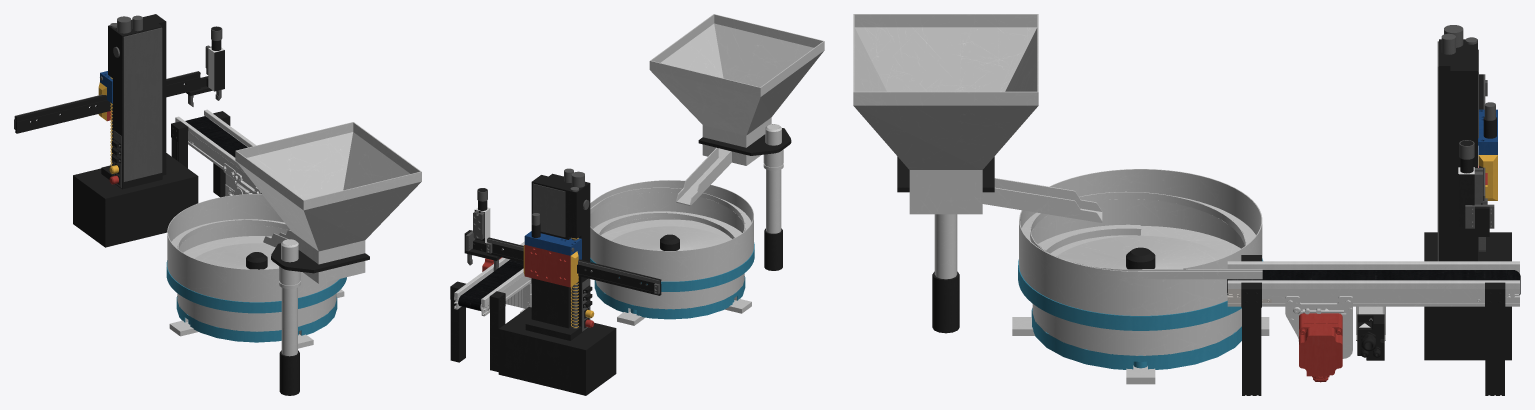
The model's file is Wing_Conveyor_1_StationRev.glb.
3 views of the same model, side by side, from view 1: azimuth 30°, elevation 25°; view 2: azimuth 150°, elevation 25°; view 3: azimuth 270°, elevation 25° (orthographic). The views are drawn at different scales.
Visible parts, largest first — view 1: color-47[17], color-47[25], color, color[26], color[25], color-47[24], color-5[3], color-47[23], color-47[4], color-47[21], color-47[18], color-44[7] (+10 smaller); view 2: color-47[17], color-47[25], color, color[25], color-47[24], color-47[26], color-5[3], color-47[4], color-2[7], color[24], color-44[7], color-47[23] (+13 smaller); view 3: color-47[17], color-47[25], color[25], color-47[24], color, color-47[26], color-44[1], color-47[23], color-47[4], color-44[7], color-44[6], color-44[5] (+11 smaller).
Boxes of the visible parts, x1=… form: color-47[17]: x1=235, y1=122, x2=421, y2=283; color-47[25]: x1=167, y1=194, x2=339, y2=302; color: x1=73, y1=153, x2=198, y2=247; color[26]: x1=123, y1=27, x2=162, y2=181; color[25]: x1=108, y1=14, x2=166, y2=182; color-47[24]: x1=177, y1=293, x2=336, y2=335; color-5[3]: x1=15, y1=71, x2=200, y2=133; color-47[23]: x1=166, y1=260, x2=346, y2=313; color-47[4]: x1=176, y1=296, x2=337, y2=342; color-47[21]: x1=281, y1=287, x2=297, y2=356; color-47[18]: x1=271, y1=243, x2=369, y2=273; color-44[7]: x1=185, y1=116, x2=247, y2=157; color-47[17]: x1=649, y1=14, x2=824, y2=205; color-47[25]: x1=590, y1=180, x2=753, y2=281; color: x1=498, y1=307, x2=616, y2=395; color[25]: x1=531, y1=173, x2=590, y2=328; color-47[24]: x1=595, y1=273, x2=744, y2=312; color-47[26]: x1=590, y1=187, x2=751, y2=238; color-5[3]: x1=487, y1=237, x2=661, y2=295; color-47[4]: x1=594, y1=276, x2=745, y2=319; color-2[7]: x1=524, y1=245, x2=570, y2=287; color[24]: x1=533, y1=183, x2=565, y2=237; color-44[7]: x1=458, y1=259, x2=523, y2=311; color-47[23]: x1=590, y1=242, x2=754, y2=291; color-47[17]: x1=853, y1=14, x2=1102, y2=222; color-47[25]: x1=1019, y1=169, x2=1262, y2=315; color[25]: x1=1439, y1=39, x2=1477, y2=261; color-47[24]: x1=1032, y1=304, x2=1241, y2=355; color: x1=1424, y1=232, x2=1511, y2=360; color-47[26]: x1=1021, y1=191, x2=1262, y2=279; color-44[1]: x1=1262, y1=289, x2=1484, y2=306; color-47[23]: x1=1018, y1=258, x2=1262, y2=330; color-47[4]: x1=1031, y1=308, x2=1241, y2=369; color-44[7]: x1=1227, y1=270, x2=1520, y2=294; color-44[6]: x1=1299, y1=313, x2=1342, y2=382; color-44[5]: x1=1227, y1=261, x2=1519, y2=269.
Bounding box in the file's own units: 0.7781 × 0.7085 × 1.37.
Materials: 10 (9 with a texture image).
